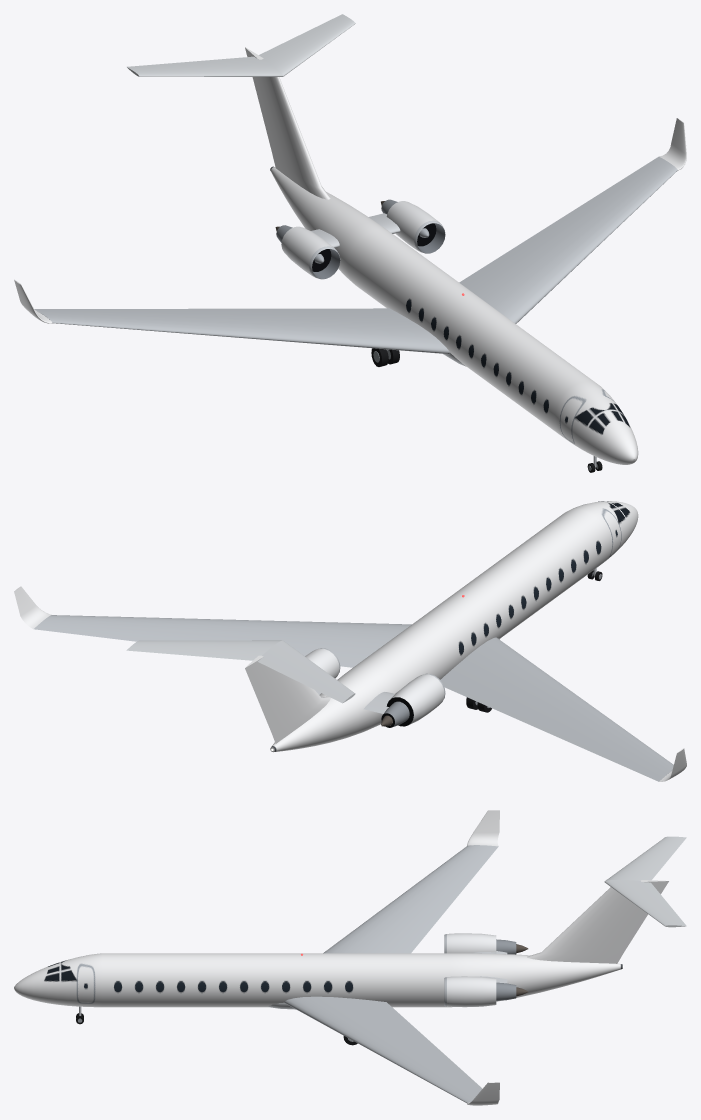
File: bizh.glb
The picture shows the model from 3 angles, top to bottom: view 1: azimuth 30°, elevation 25°; view 2: azimuth 150°, elevation 25°; view 3: azimuth 270°, elevation 25°; orthographic projection. The views are drawn at different scales.
Parts seen in each view (by area): view 1: body; view 2: body; view 3: body.
Boxes of the visible parts, box(x1,y1,x2,y2) form: body: box(14, 14, 686, 464); body: box(14, 501, 686, 781); body: box(14, 810, 686, 1105).
Bounding box in the file's own units: 32.22 × 7.85 × 33.63.
19 materials, 1 textured.
